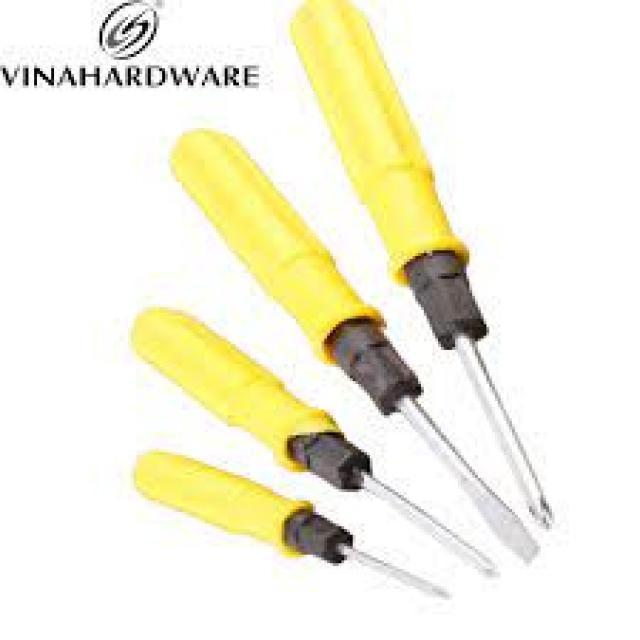screwdriver: (162, 122, 546, 566), (287, 0, 555, 535), (130, 302, 503, 584), (121, 452, 454, 603)
